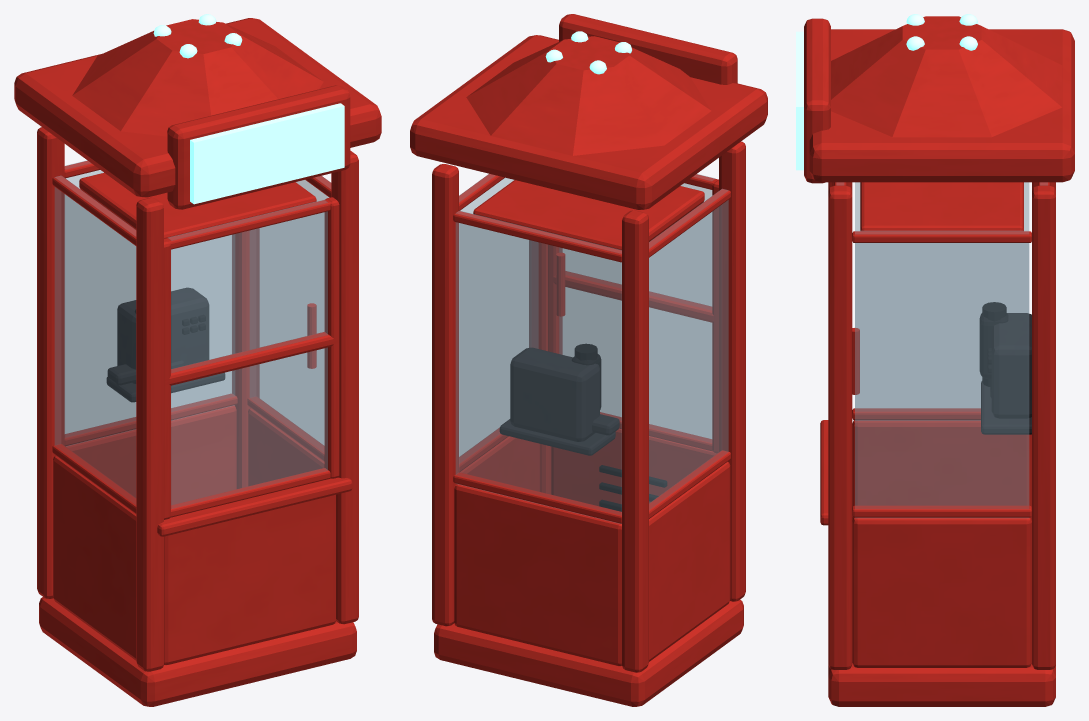
File: prop_phone_booth.glb
3 views of the same model, side by side, from view 1: azimuth 30°, elevation 25°; view 2: azimuth 150°, elevation 25°; view 3: azimuth 270°, elevation 25° (orthographic). The views are drawn at different scales.
Parts seen in each view (by area): view 1: prop_phone_booth_glass_door, prop_phone_booth_kick_f, prop_phone_booth_glass_side_l, prop_phone_booth_glass_back, prop_phone_booth_crown, prop_phone_booth_glass_side_r, prop_phone_booth_post_lf, prop_phone_booth_roof, prop_phone_booth_kick_l, prop_phone_booth_plinth, prop_phone_booth_post_lb, prop_phone_booth_sign_face (+19 smaller); view 2: prop_phone_booth_glass_back, prop_phone_booth_kick_b, prop_phone_booth_glass_side_l, prop_phone_booth_roof, prop_phone_booth_crown, prop_phone_booth_glass_door, prop_phone_booth_glass_side_r, prop_phone_booth_post_lb, prop_phone_booth_kick_l, prop_phone_booth_plinth, prop_phone_booth_post_rb, prop_phone_booth_post_lf (+19 smaller); view 3: prop_phone_booth_glass_side_r, prop_phone_booth_kick_r, prop_phone_booth_glass_side_l, prop_phone_booth_crown, prop_phone_booth_roof, prop_phone_booth_kick_l, prop_phone_booth_post_rf, prop_phone_booth_post_rb, prop_phone_booth_plinth, prop_phone_booth_canopy, prop_phone_booth_phone_body, prop_phone_booth_sign_box (+8 smaller).
Boxes of the visible parts, x1=… form: prop_phone_booth_glass_door: x1=168, y1=200, x2=327, y2=508; prop_phone_booth_kick_f: x1=164, y1=494, x2=335, y2=665; prop_phone_booth_glass_side_l: x1=55, y1=176, x2=135, y2=504; prop_phone_booth_glass_back: x1=65, y1=160, x2=234, y2=434; prop_phone_booth_crown: x1=72, y1=19, x2=323, y2=136; prop_phone_booth_glass_side_r: x1=250, y1=176, x2=330, y2=445; prop_phone_booth_post_lf: x1=136, y1=197, x2=163, y2=671; prop_phone_booth_roof: x1=14, y1=18, x2=381, y2=197; prop_phone_booth_kick_l: x1=53, y1=455, x2=136, y2=660; prop_phone_booth_plinth: x1=39, y1=597, x2=356, y2=706; prop_phone_booth_post_lb: x1=37, y1=127, x2=64, y2=598; prop_phone_booth_sign_face: x1=190, y1=103, x2=344, y2=204; prop_phone_booth_glass_back: x1=456, y1=211, x2=621, y2=523; prop_phone_booth_kick_b: x1=454, y1=484, x2=621, y2=666; prop_phone_booth_glass_side_l: x1=649, y1=189, x2=728, y2=509; prop_phone_booth_roof: x1=410, y1=35, x2=767, y2=209; prop_phone_booth_crown: x1=466, y1=36, x2=711, y2=155; prop_phone_booth_glass_door: x1=559, y1=174, x2=715, y2=439; prop_phone_booth_glass_side_r: x1=459, y1=174, x2=538, y2=457; prop_phone_booth_post_lb: x1=622, y1=210, x2=648, y2=672; prop_phone_booth_kick_l: x1=649, y1=461, x2=730, y2=661; prop_phone_booth_plinth: x1=434, y1=600, x2=743, y2=706; prop_phone_booth_post_rb: x1=432, y1=164, x2=458, y2=626; prop_phone_booth_post_lf: x1=719, y1=141, x2=745, y2=601; prop_phone_booth_glass_side_r: x1=855, y1=231, x2=1028, y2=508; prop_phone_booth_kick_r: x1=852, y1=517, x2=1031, y2=667; prop_phone_booth_glass_side_l: x1=855, y1=182, x2=1028, y2=420; prop_phone_booth_crown: x1=831, y1=16, x2=1062, y2=137; prop_phone_booth_roof: x1=809, y1=29, x2=1074, y2=182; prop_phone_booth_kick_l: x1=852, y1=420, x2=1031, y2=520; prop_phone_booth_post_rf: x1=828, y1=185, x2=852, y2=669; prop_phone_booth_post_rb: x1=1032, y1=185, x2=1055, y2=669; prop_phone_booth_plinth: x1=828, y1=663, x2=1055, y2=706; prop_phone_booth_canopy: x1=860, y1=182, x2=1023, y2=231; prop_phone_booth_phone_body: x1=991, y1=313, x2=1031, y2=418; prop_phone_booth_sign_box: x1=804, y1=18, x2=830, y2=183.
Bounding box in the file's own units: 1.09 × 2.6 × 1.04.
7 materials, 5 textured.
